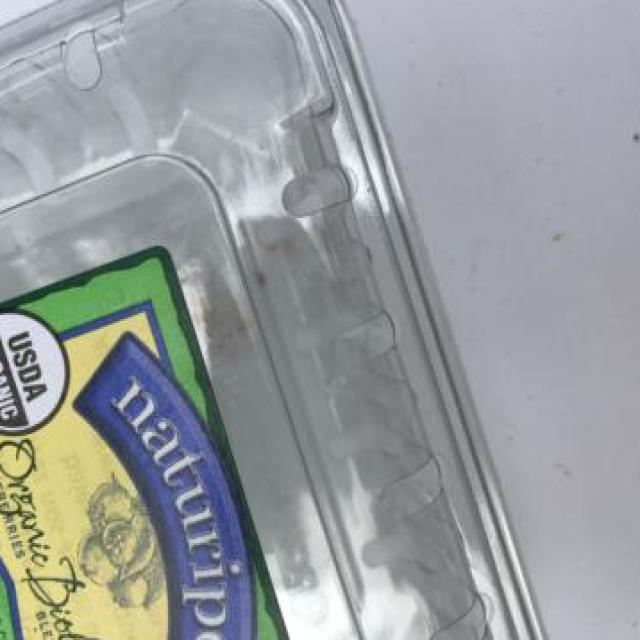organic: (0, 2, 552, 630)
